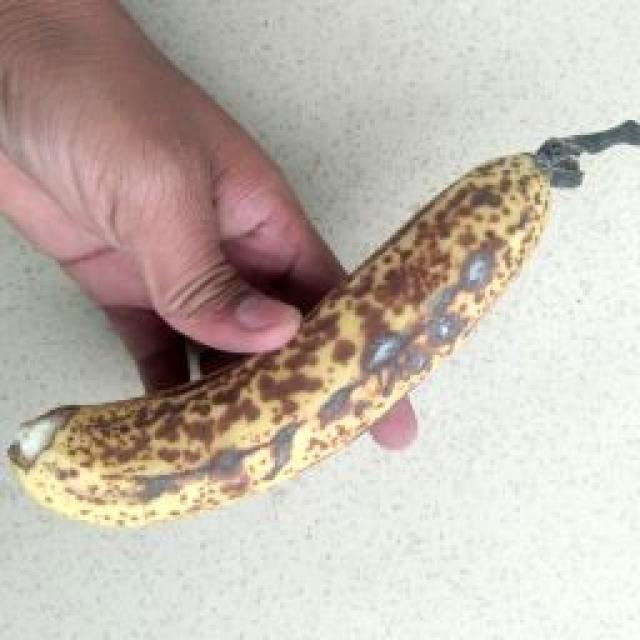banana: (28, 0, 541, 551)
